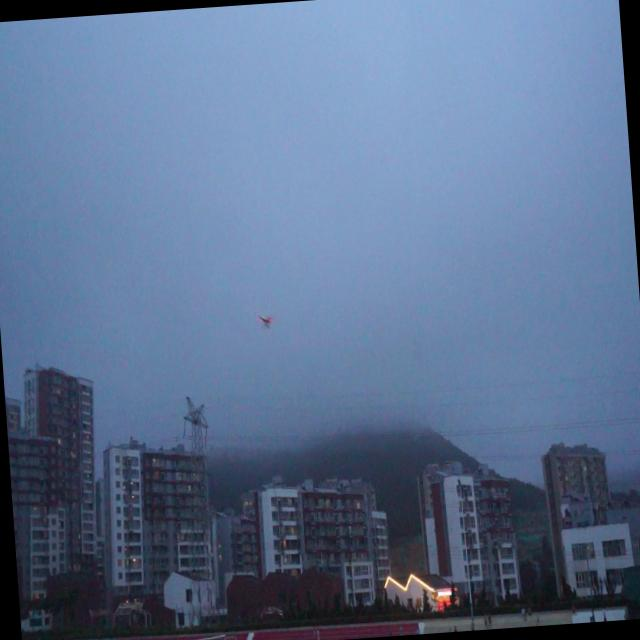drone: (259, 310, 275, 331)
